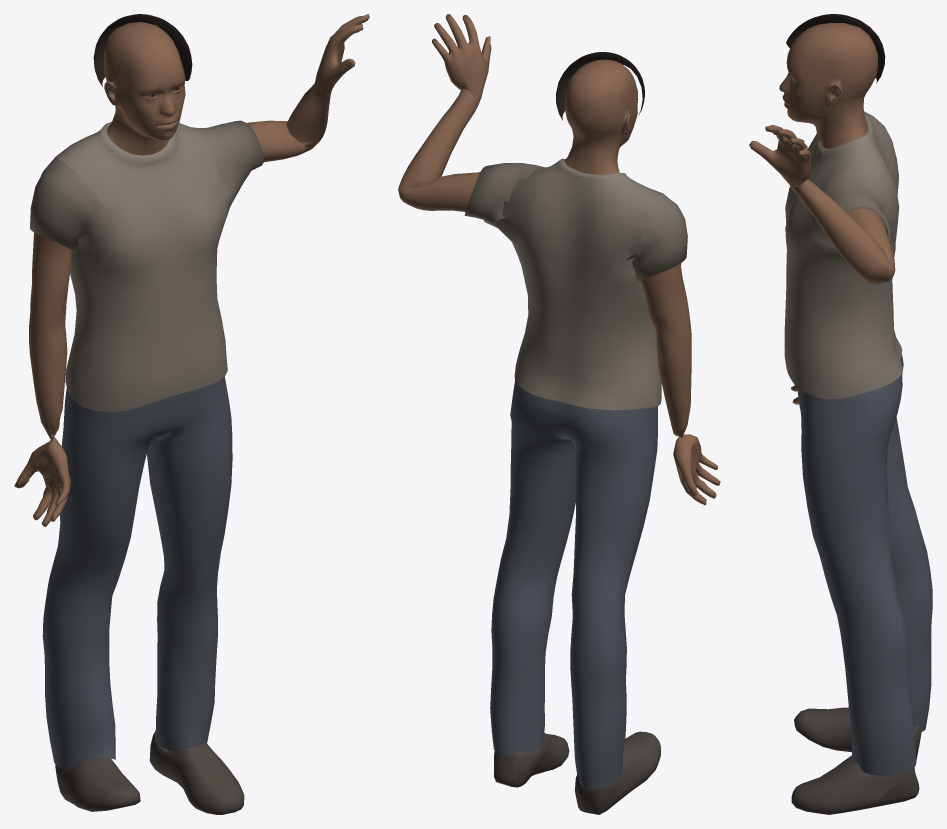
File: participant-19-middle.glb
The picture shows the model from 3 angles, left to right: view 1: azimuth 30°, elevation 25°; view 2: azimuth 150°, elevation 25°; view 3: azimuth 270°, elevation 25°; orthographic projection. The views are drawn at different scales.
Parts seen in each view (by area): view 1: Participant anatomy and ordinary clothes; view 2: Participant anatomy and ordinary clothes; view 3: Participant anatomy and ordinary clothes.
Part boxes in pixels (bbox=[...]): Participant anatomy and ordinary clothes: bbox=[14, 14, 369, 814]; Participant anatomy and ordinary clothes: bbox=[398, 14, 720, 814]; Participant anatomy and ordinary clothes: bbox=[749, 14, 932, 814].
Bounding box in the file's own units: 0.7359 × 1.75 × 0.384.
